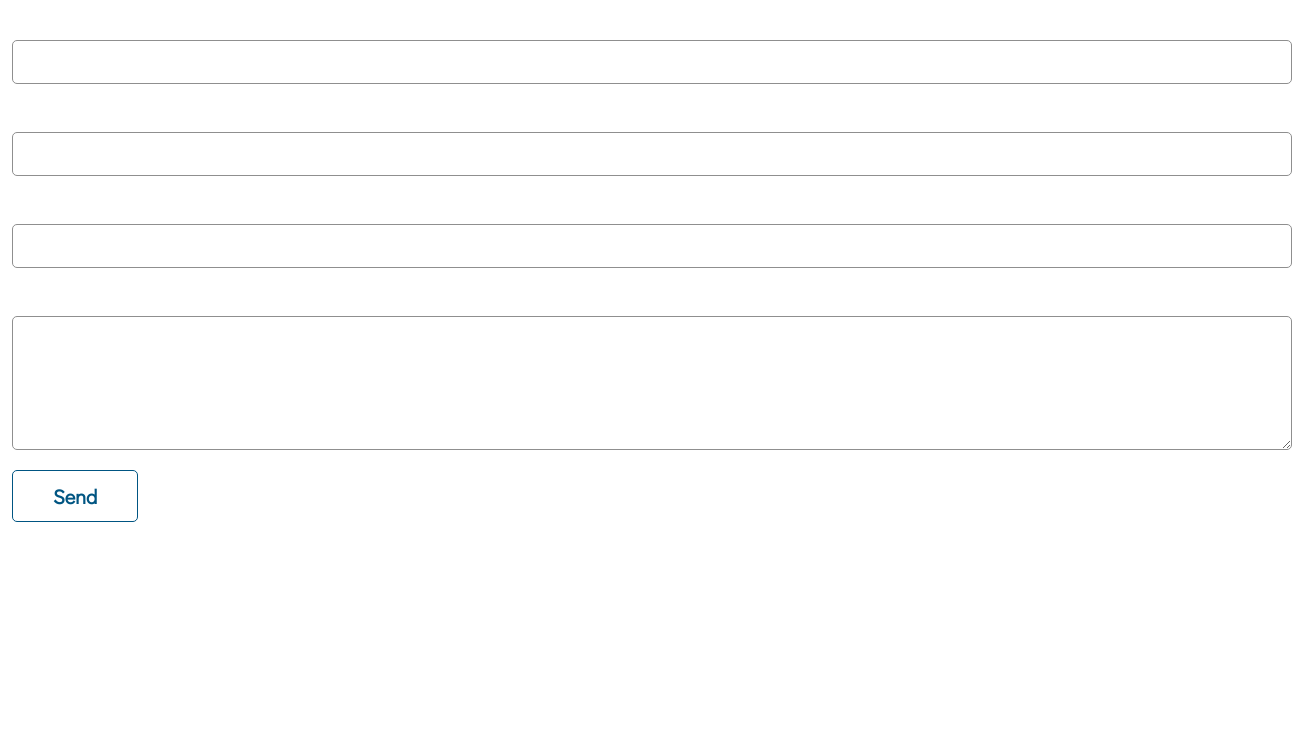
Test case: submission › reports a refusal from the endpoint instead of claiming success
The image size is (1304, 732).
Type "Ana" into the field labelled "First Name".
click(652, 62); type("Ana")  # box [12,40,1292,84]
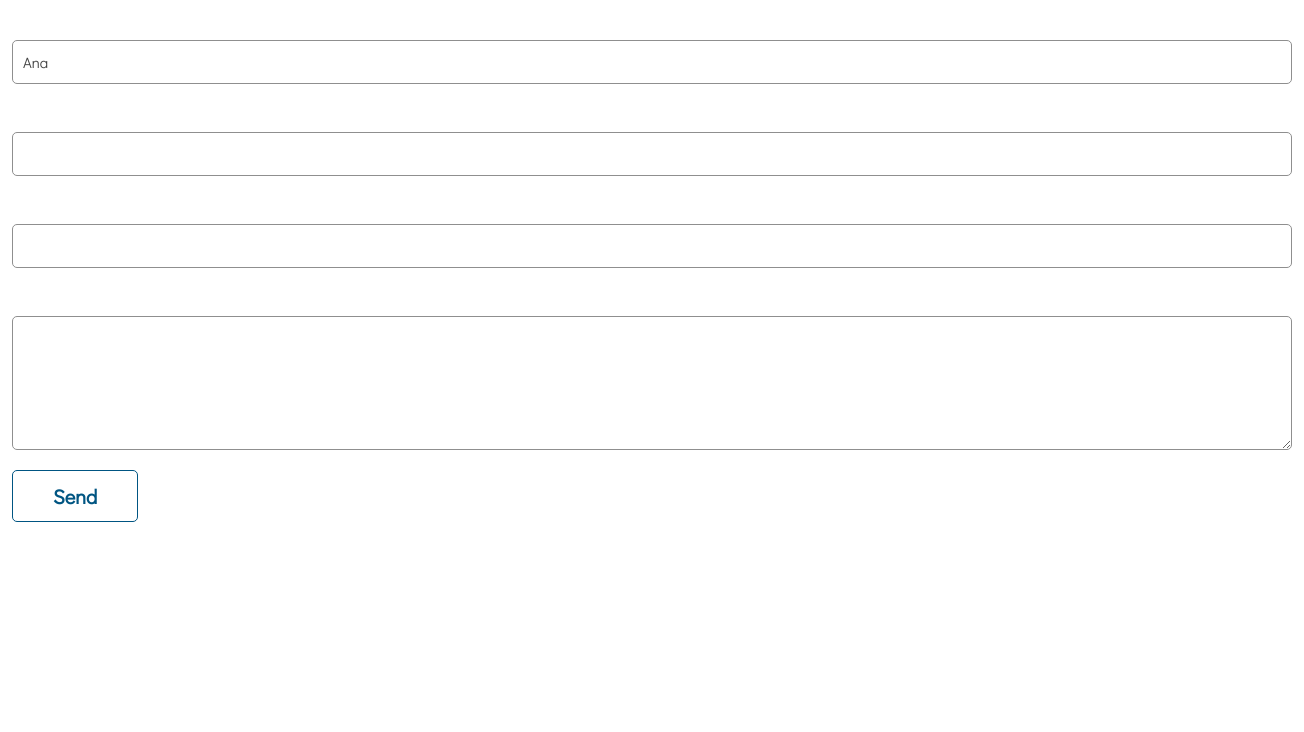
Type "Petrova" into the field labelled "Last Name".
click(652, 154); type("Petrova")  # box [12,132,1292,176]
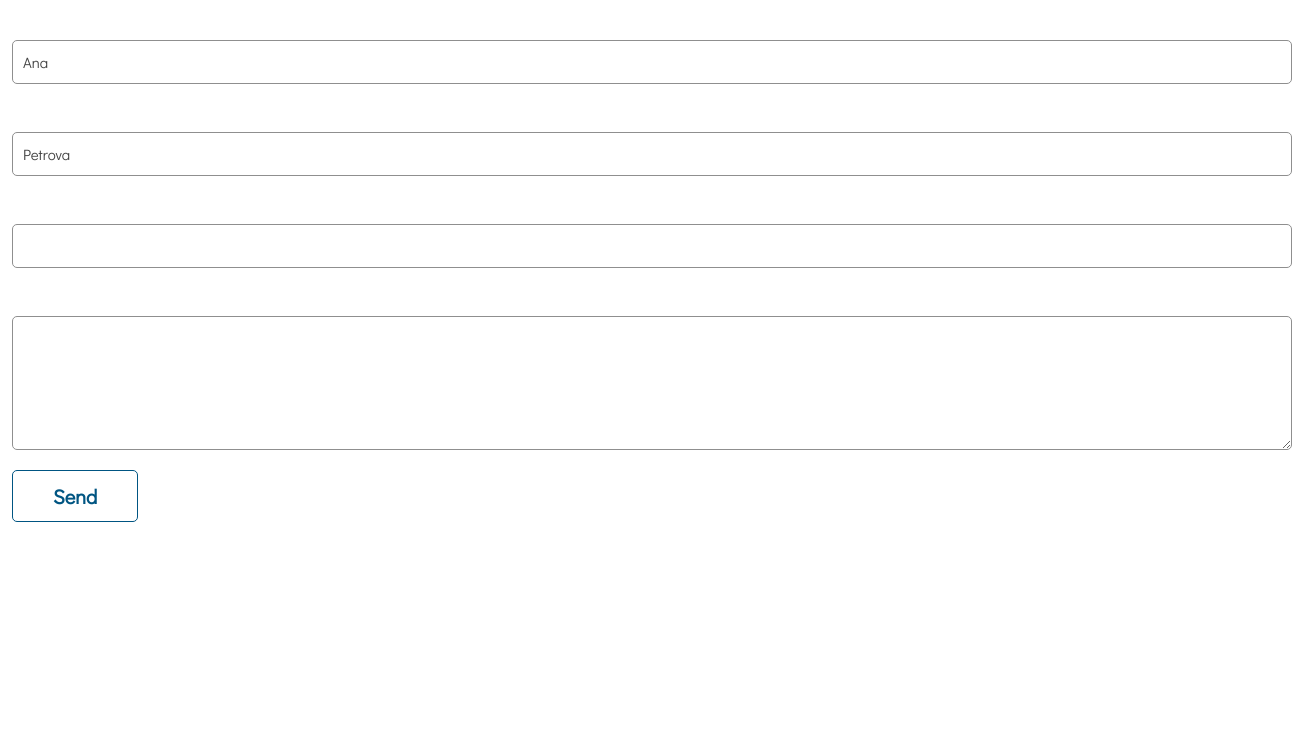
Type "ana@example.com" into the field with id "field-email".
click(652, 246); type("ana@example.com")  # box [12,224,1292,268]
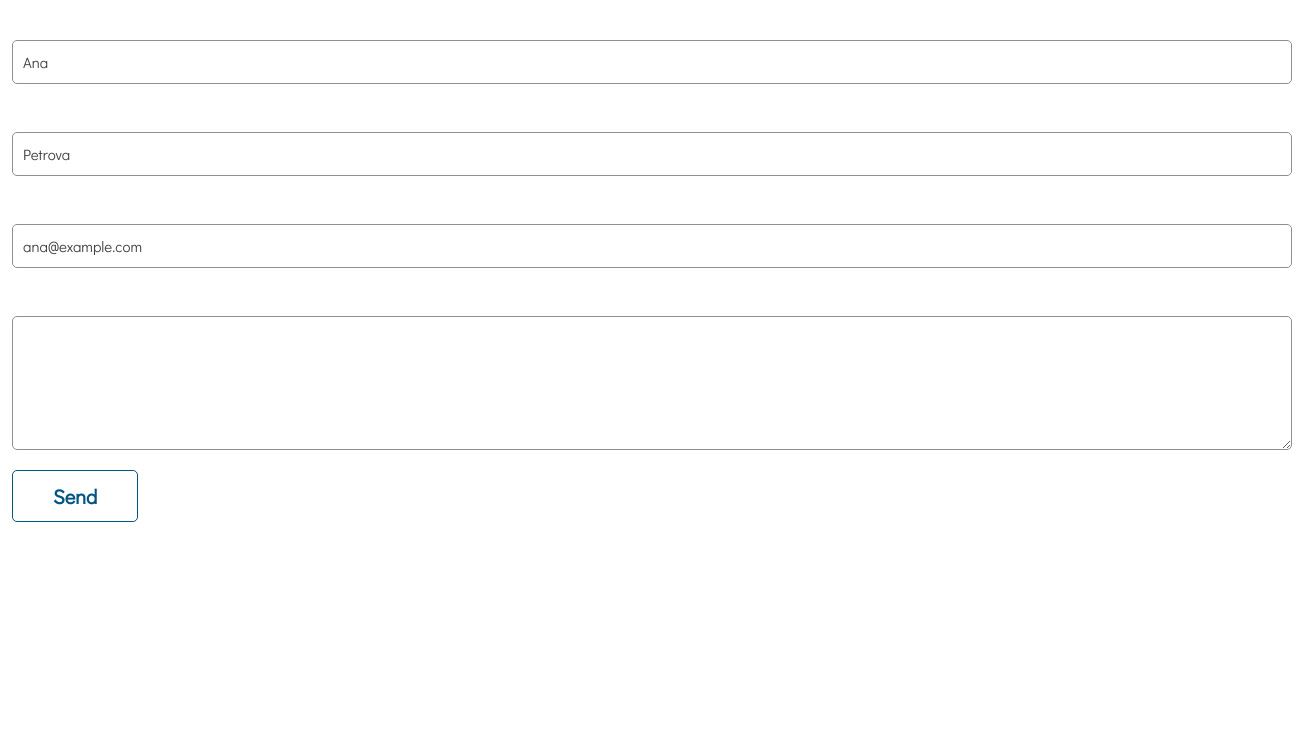
Type "Hello" into the text box labelled "Your Message".
click(652, 383); type("Hello")  # box [12,316,1292,450]
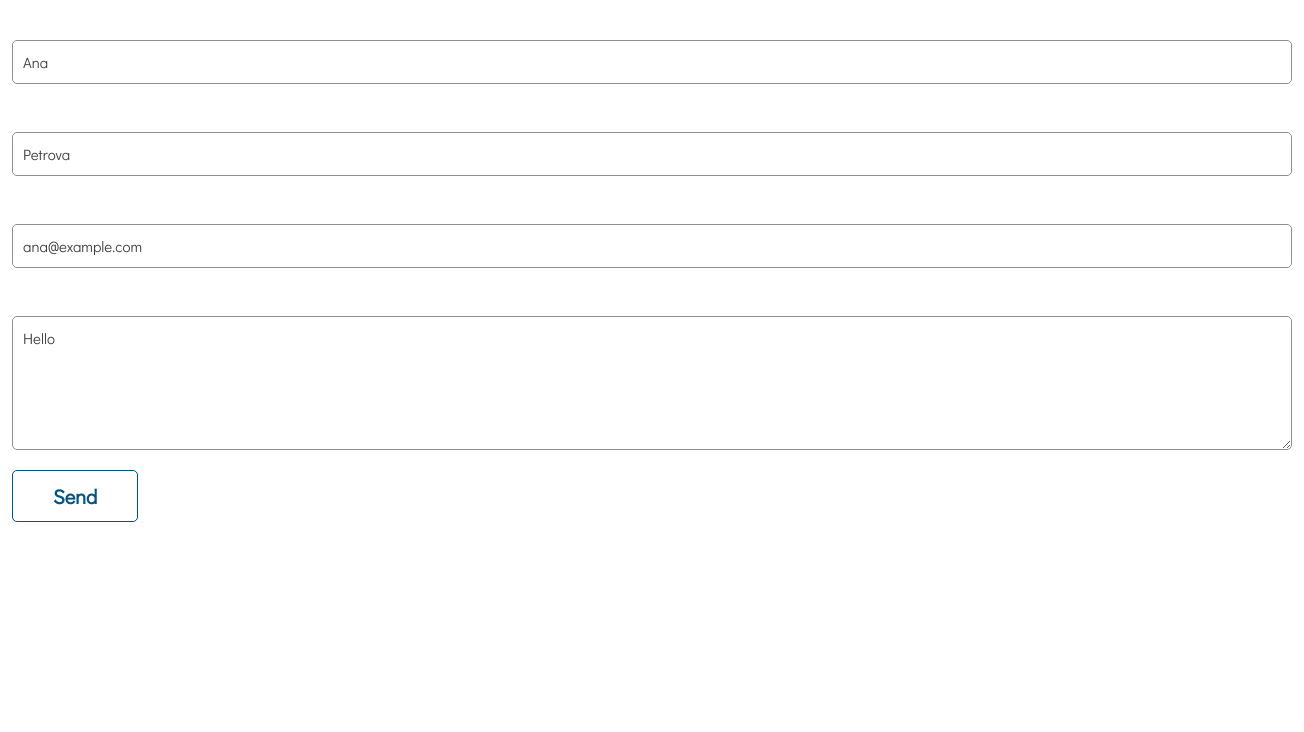
Submit the form
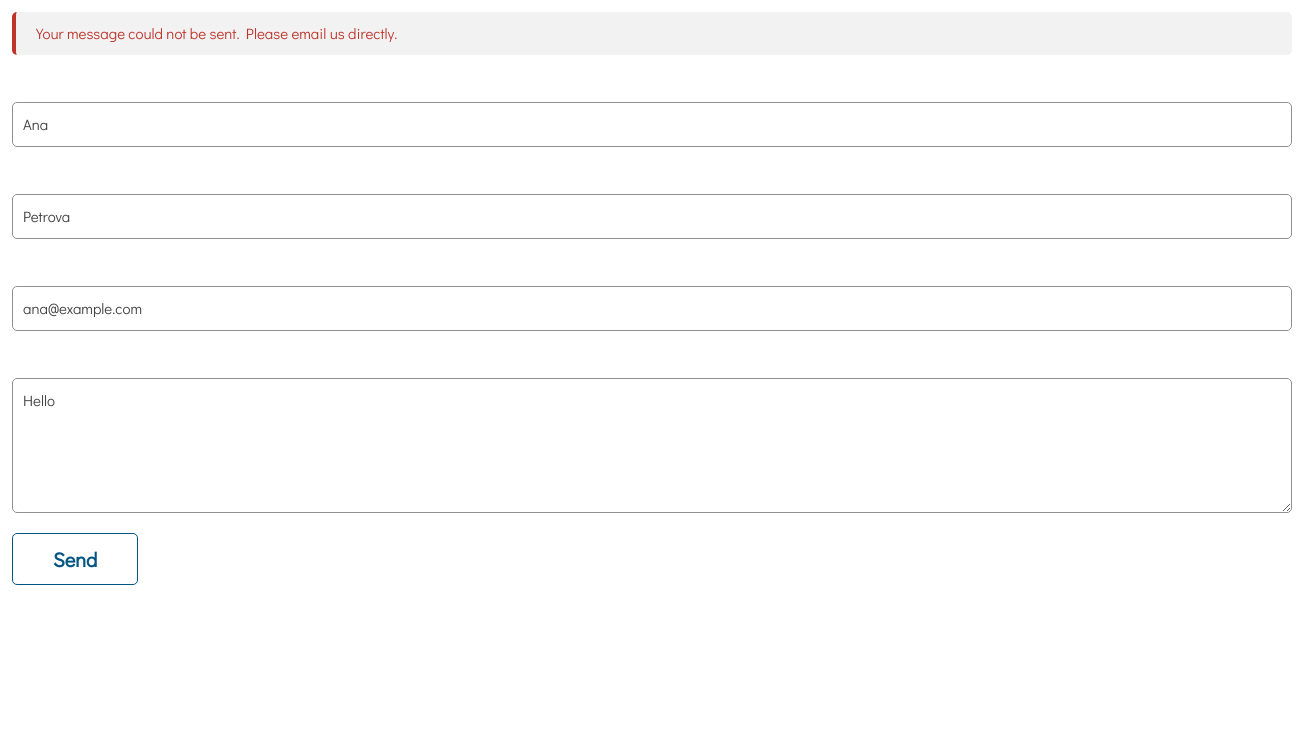
Result: the message "Your message could not be sent. Please email us directly." is shown at [12,12,1292,54]
